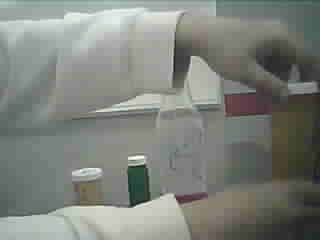Bottle A: (265, 76, 320, 183)
Bottle B: (69, 162, 105, 203)
Bottle C: (126, 154, 150, 203)
hazard: (159, 72, 209, 198)
